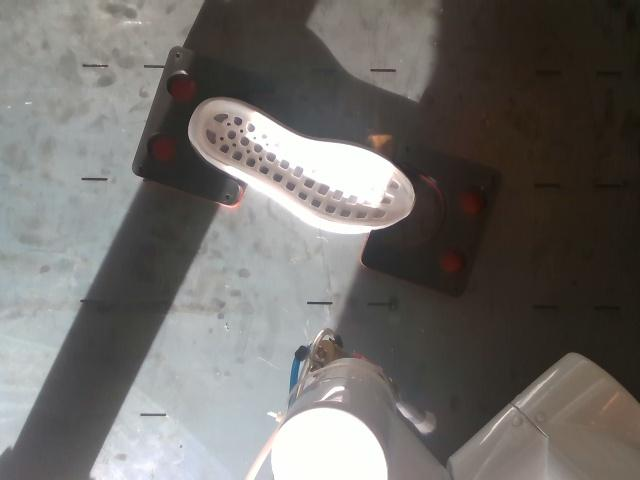shoes: (194, 100, 414, 226)
